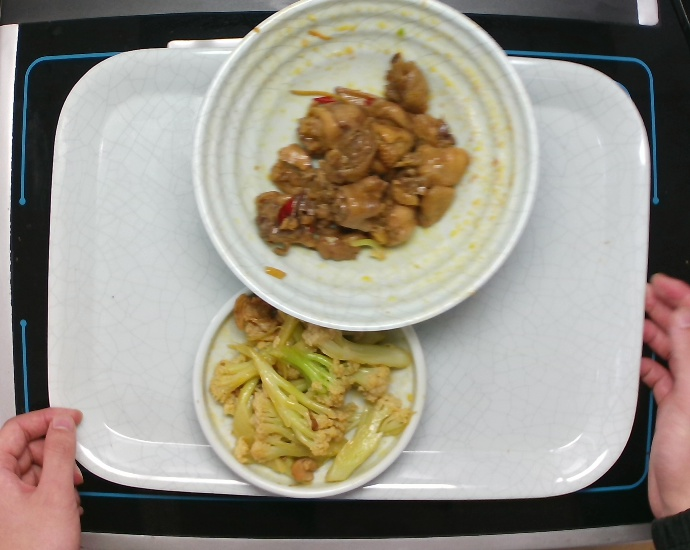JYsf-Da_Tang_Wan: (188, 1, 549, 333)
JYsf-Xiao_Yuan_Pan: (189, 260, 433, 506)
